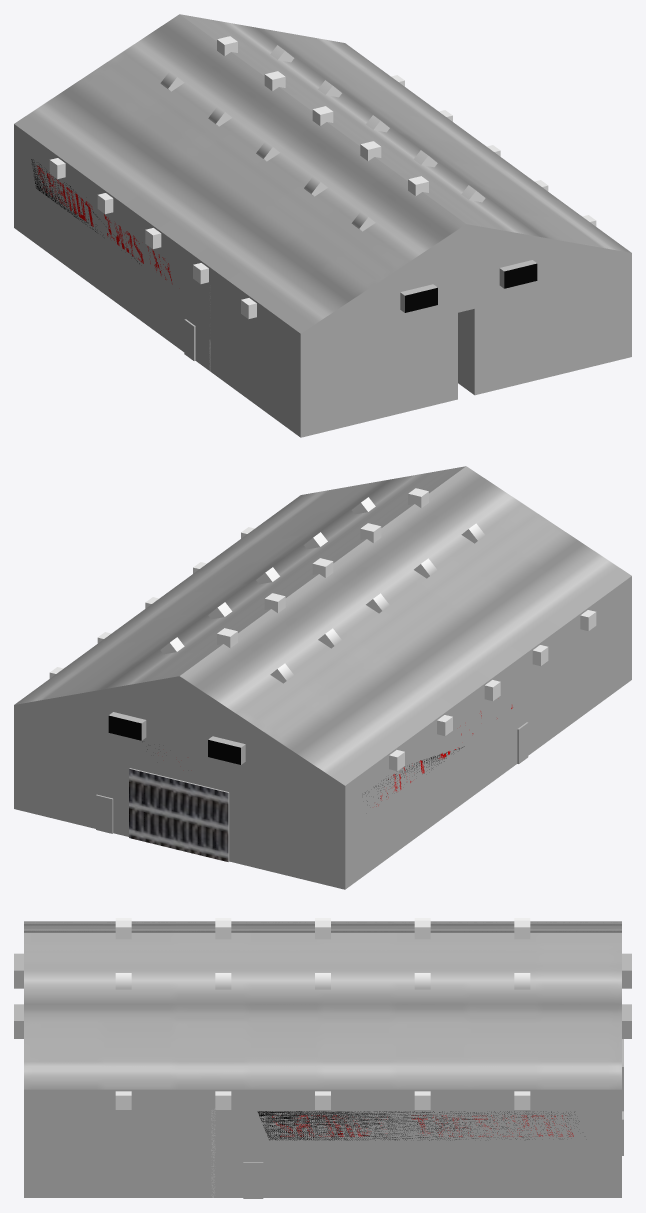
The model's file is HAKUZAKI TUNERZ 2X.fbx.
3 views of the same model, one above another, from view 1: azimuth 30°, elevation 25°; view 2: azimuth 150°, elevation 25°; view 3: azimuth 270°, elevation 25° (orthographic). The views are drawn at different scales.
Visible parts, largest first — view 1: GARAGE; view 2: GARAGE; view 3: GARAGE.
Boxes of the visible parts, x1=… form: GARAGE: x1=14, y1=14, x2=631, y2=437; GARAGE: x1=14, y1=466, x2=631, y2=889; GARAGE: x1=14, y1=918, x2=631, y2=1198.
Size of the model in its own units: 2100 by 1050 by 3100.
